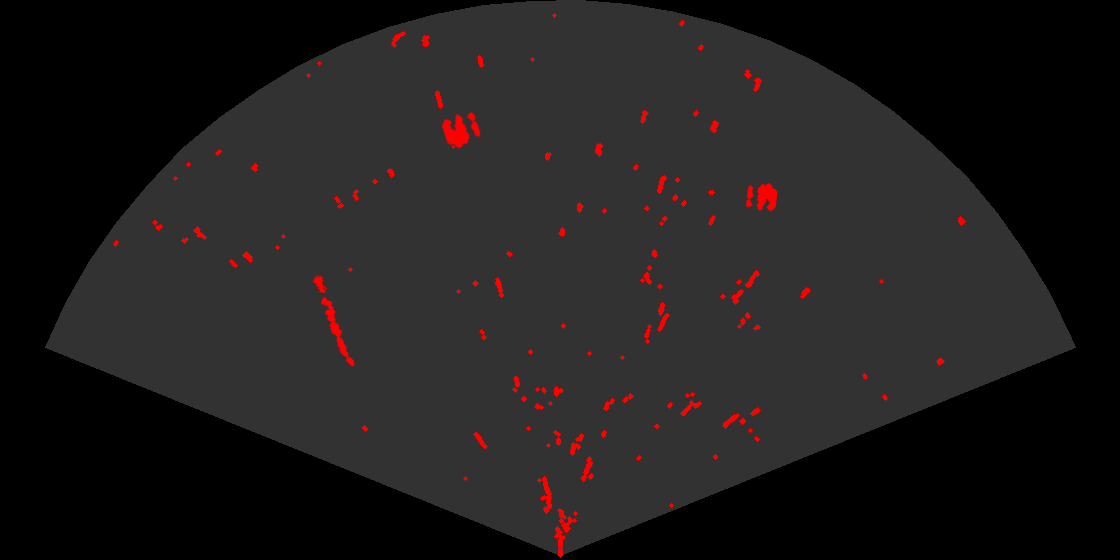ball: (440, 110, 482, 150), (744, 182, 779, 213)
chain: (311, 274, 356, 368)
